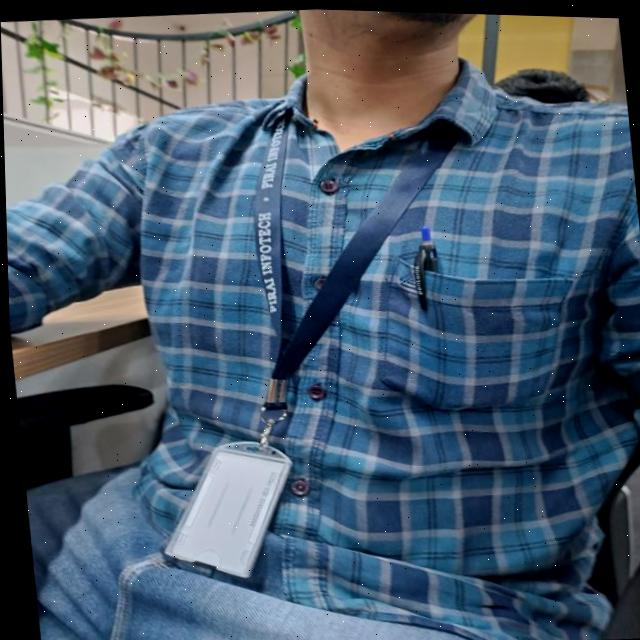id_card: (120, 90, 533, 592)
